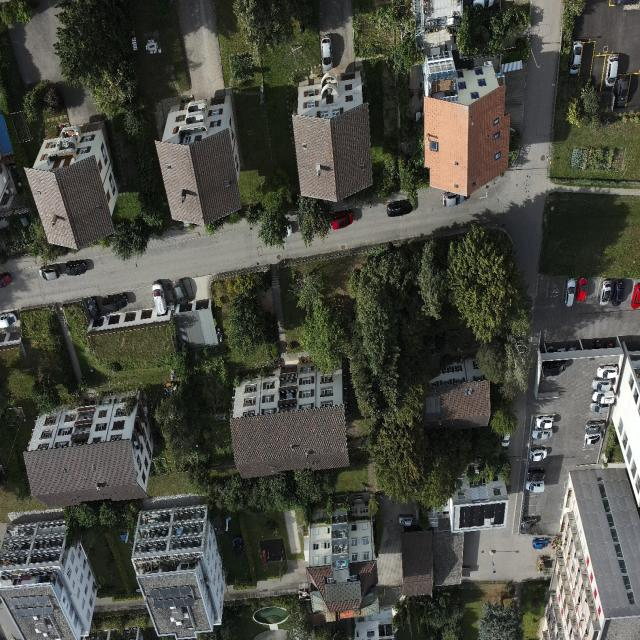panneaux_solaires: (457, 503, 506, 529), (151, 585, 195, 609), (9, 598, 53, 618)
